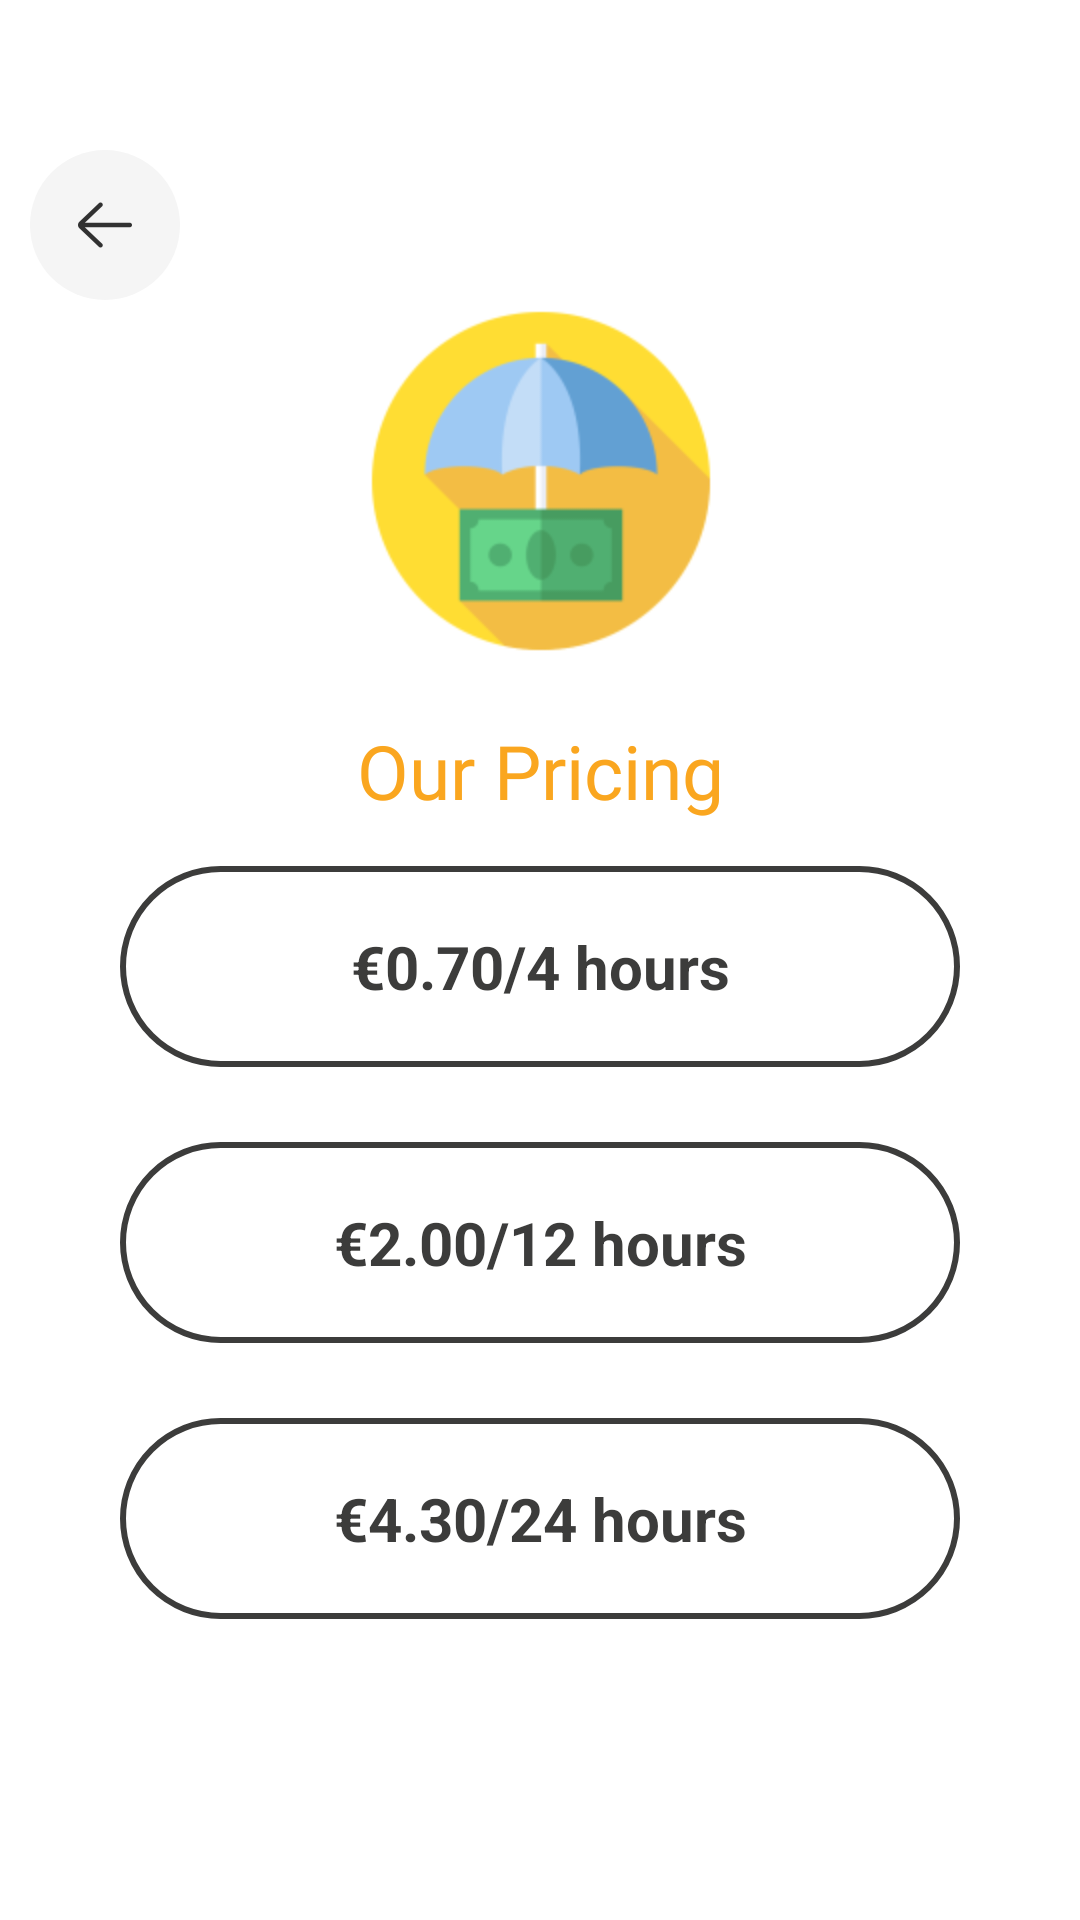

Named icons in this screenshot (1080 × 1920) and their centers, (x,y):
back: (105,225)
plan umb: (541,481)
